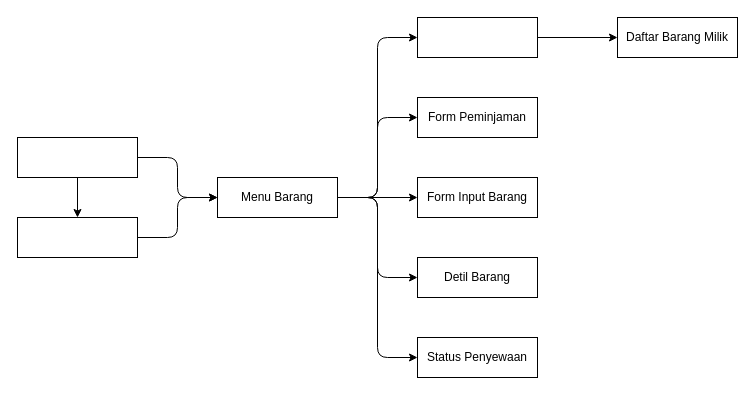
The diagram is 755 pixels wide and 395 high, and some of its shapes have lost their labels. Here are the shapes that lost their labels. From the top down, the box of each, then its label:
(416, 16, 538, 58): Profil
(16, 136, 138, 178): Login
(16, 216, 138, 258): Register
